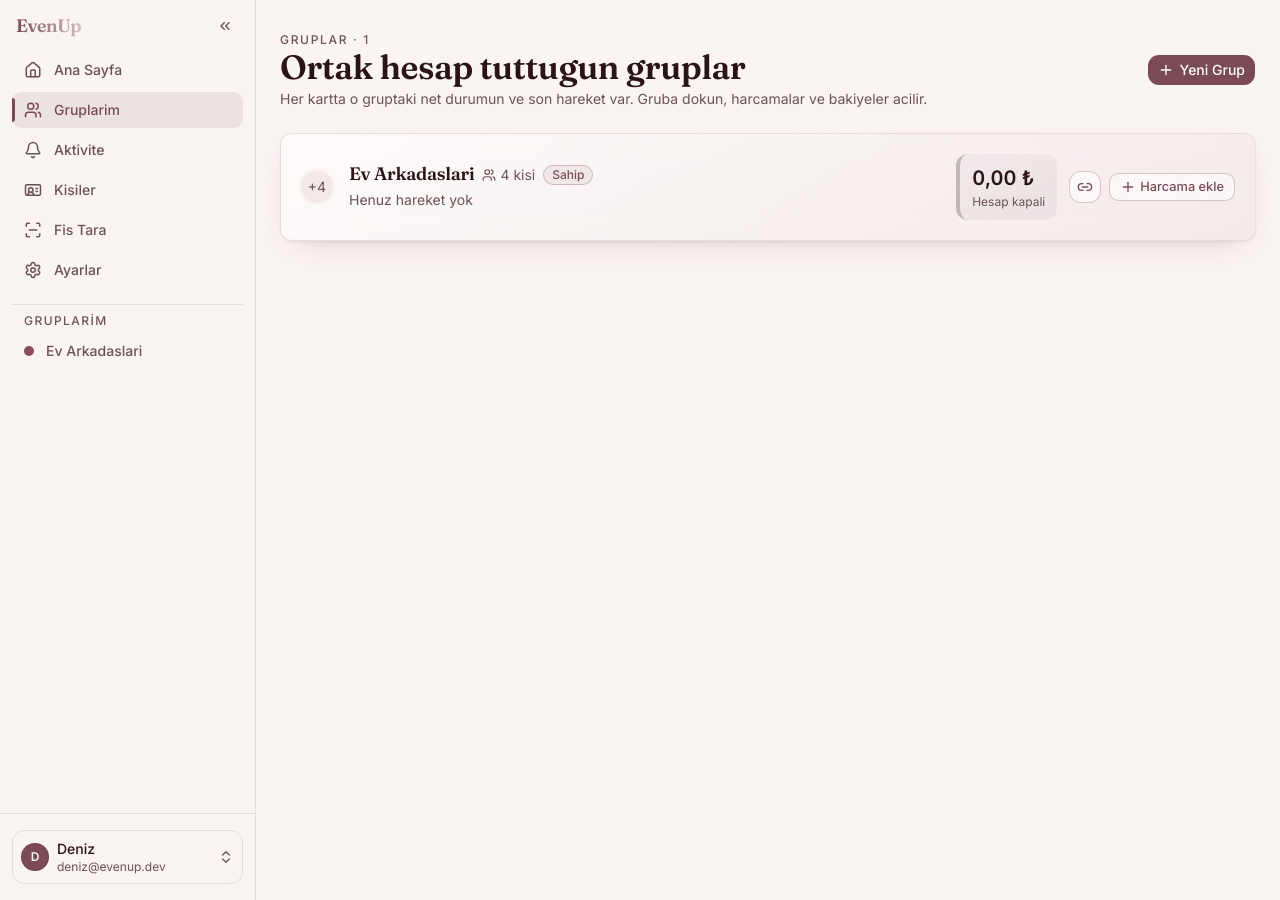
it: Sidebar — grup kisayollari › yeni grup olusturulunca sidebar da tazelenir
Expected: the link "Ev Arkadaslari" below "Ayarlar" is shown, [24,342,142,359]
Expected: the link "Tatil" is not shown
Click the button "Yeni Grup" at (1201,70), box [1147,54,1256,86]
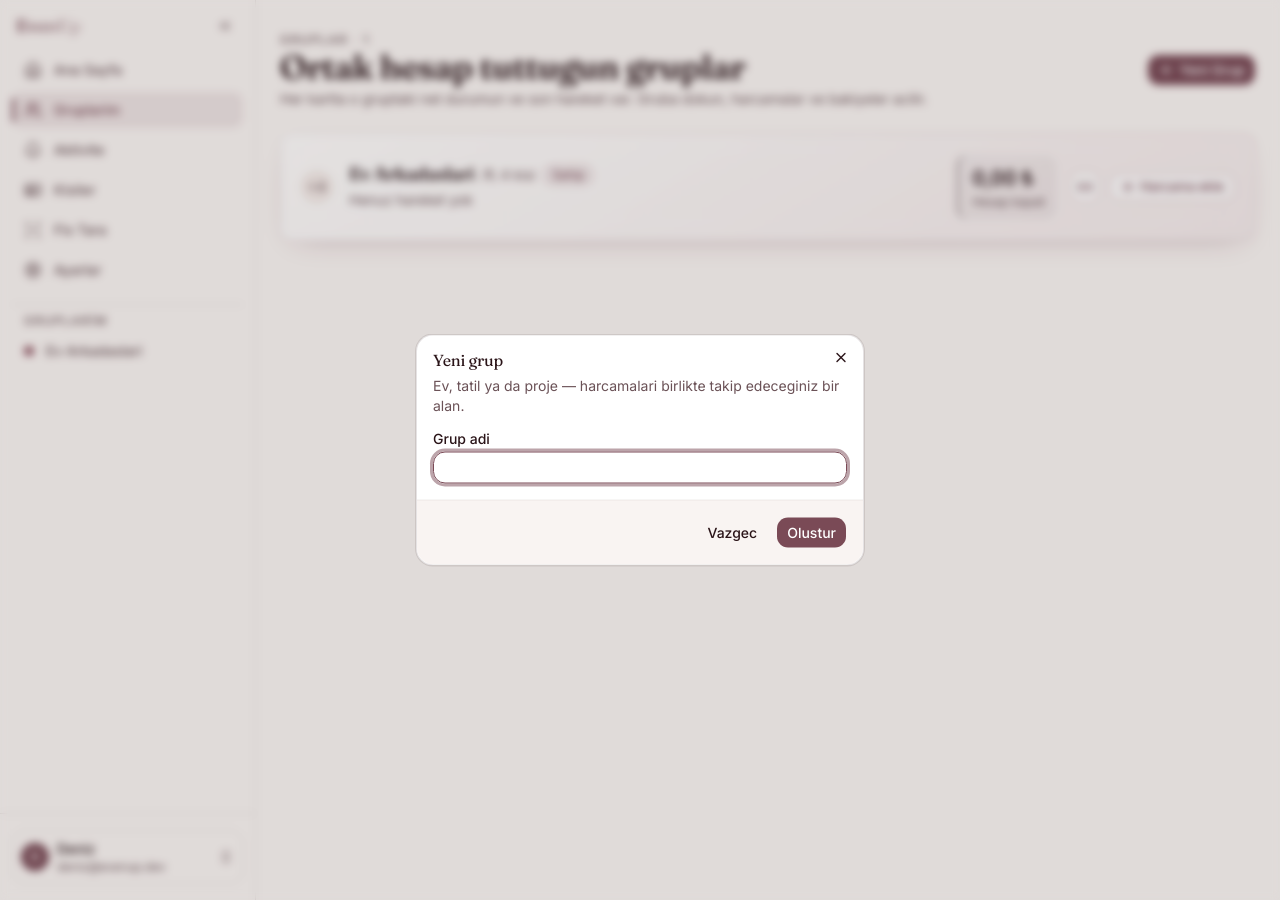
Type "Tatil" into the field labelled "Grup adi" at (640,468), box [433,452,847,484]
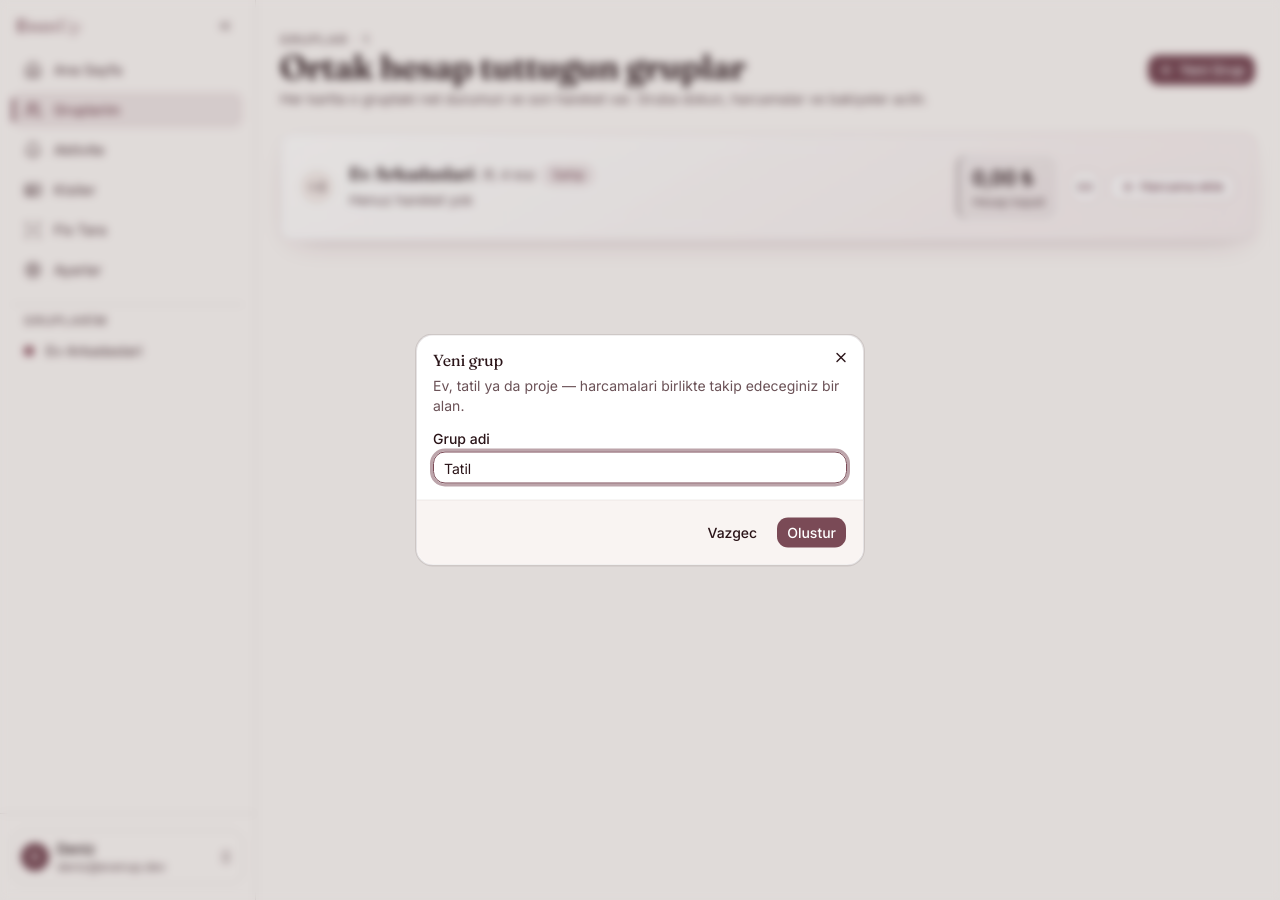
Click the button "Olustur" at (812,532), box [776,516,847,548]
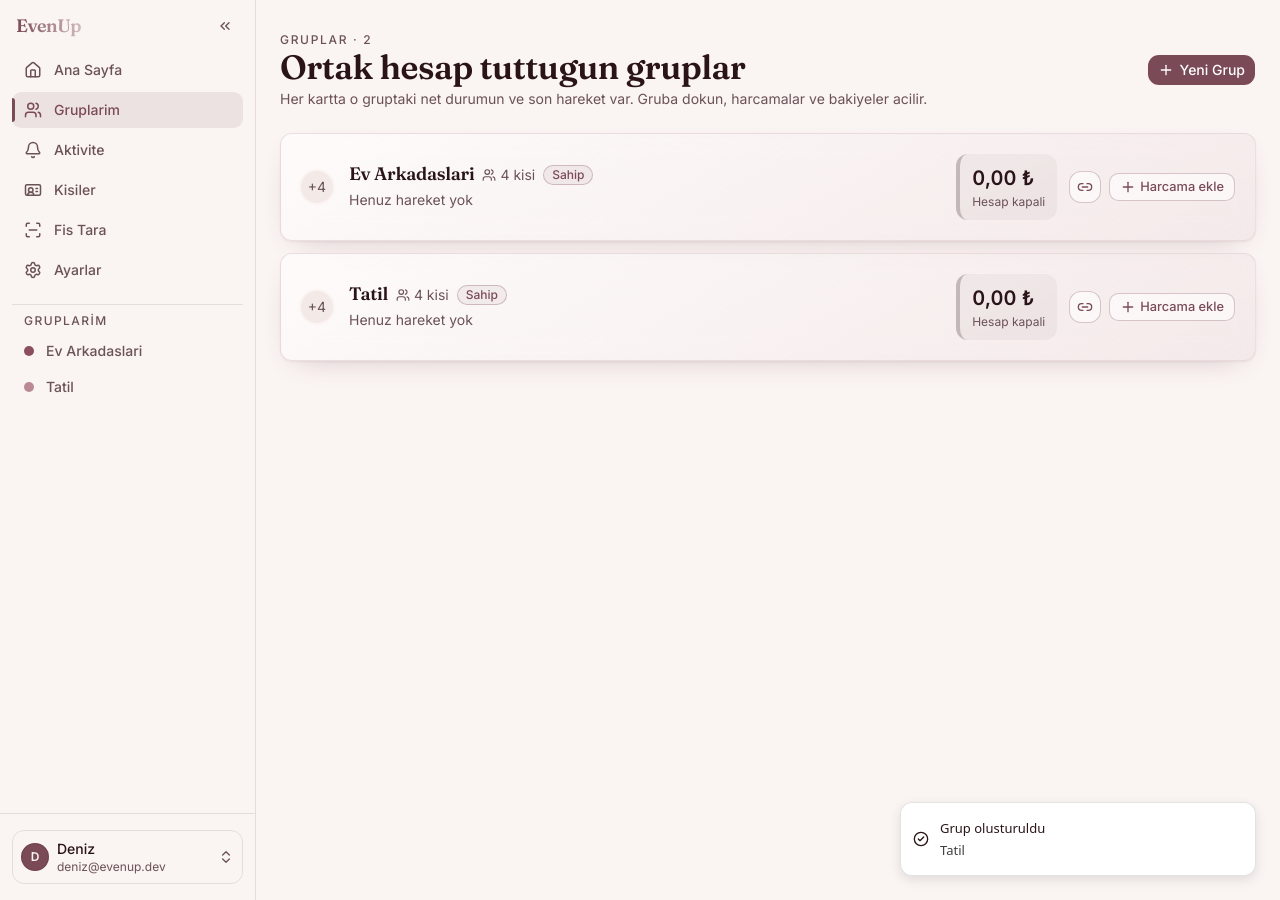
Now the link "Tatil" below "Ayarlar" is shown, box [24,378,74,395]
